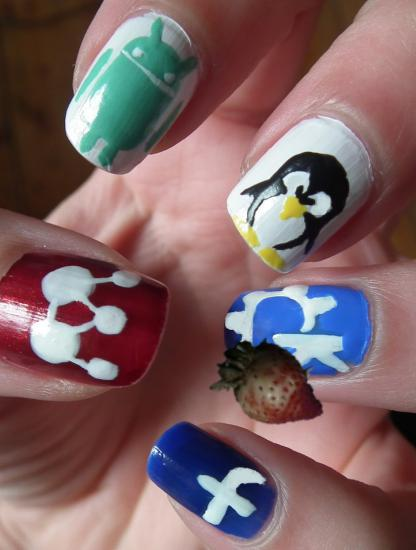Strawberry: (212, 332, 321, 441)
